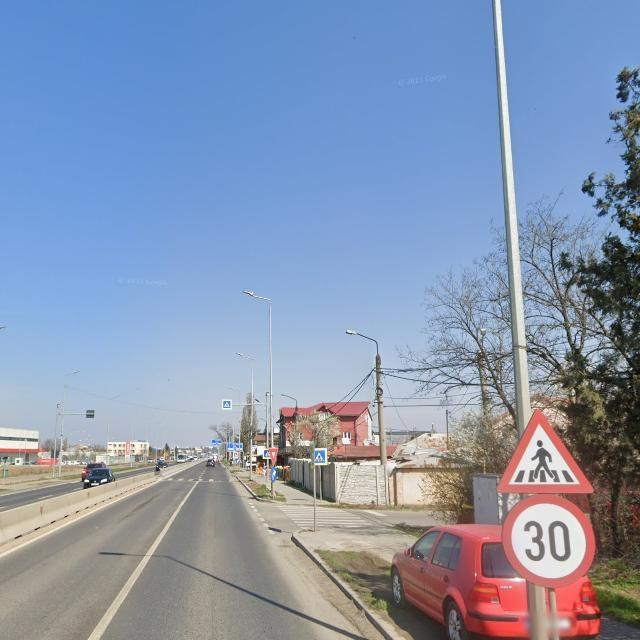forb_speed_over_30: (503, 493, 598, 588)
info_crosswalk: (313, 448, 327, 466)
prio_give_way: (267, 448, 279, 464)
warn_crosswalk: (497, 407, 596, 494)
